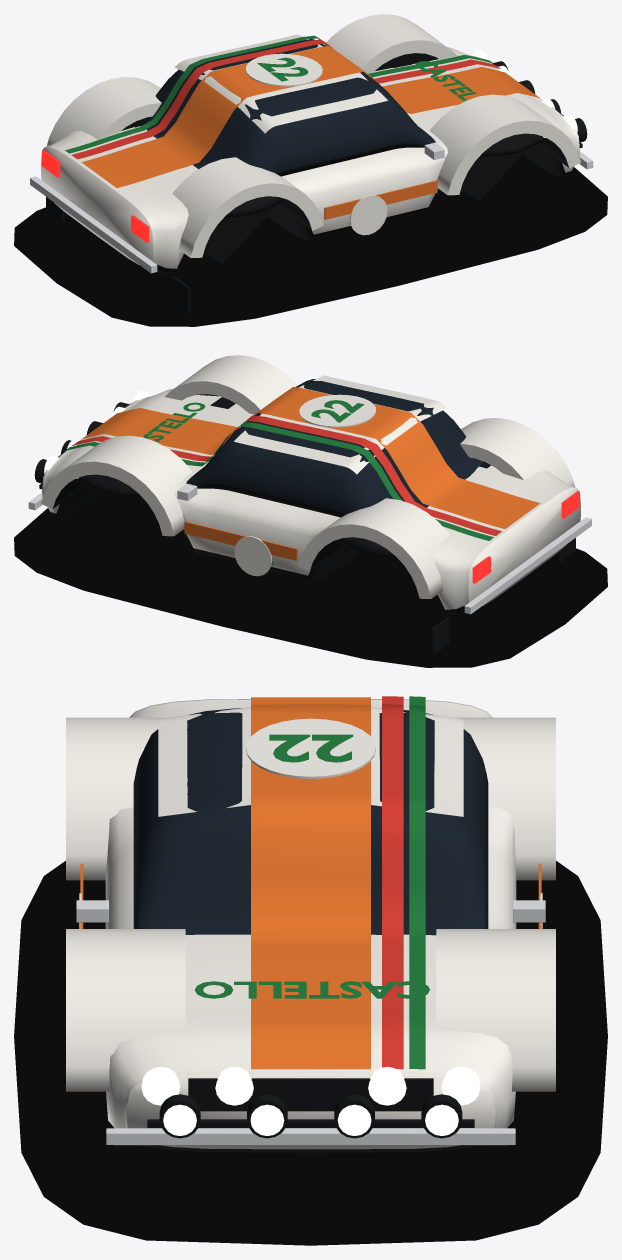
Rendered from car-2.glb.
3 renders of one model, top to bottom at view 1: azimuth 30°, elevation 25°; view 2: azimuth 150°, elevation 25°; view 3: azimuth 270°, elevation 25°, orthographic. The views are drawn at different scales.
Parts seen in each view (by area): view 1: car-2; view 2: car-2; view 3: car-2.
Part boxes in pixels (box(x1,y1,x2,y2)): car-2: box(14, 14, 607, 326); car-2: box(14, 355, 607, 667); car-2: box(14, 696, 607, 1245).
Bounding box in the file's own units: 3.8 × 1.14 × 2.28.
